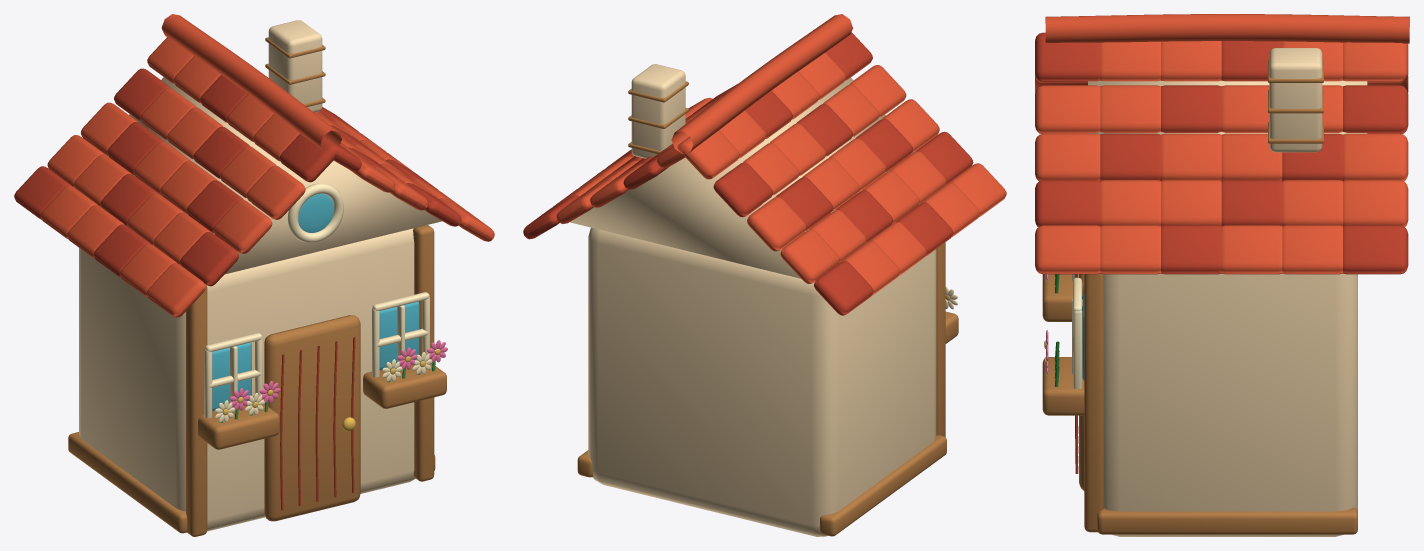
File: cottage-v15.glb
3 renders of one model, left to right at view 1: azimuth 30°, elevation 25°; view 2: azimuth 150°, elevation 25°; view 3: azimuth 270°, elevation 25°, orthographic. The views are drawn at different scales.
Visible parts, largest first — view 1: Cottage_Warm plaster, Cottage_RoofClay, Cottage_Honey timber, Cottage_RoofShade, Cottage_Cream trim, Cottage_Sky blue glass, Cottage_Pink blossoms; view 2: Cottage_Warm plaster, Cottage_RoofClay, Cottage_RoofShade, Cottage_Honey timber; view 3: Cottage_Warm plaster, Cottage_RoofClay, Cottage_RoofShade, Cottage_Honey timber, Cottage_Cream trim.
Part boxes in pixels (bbox=[...]): Cottage_Warm plaster: bbox=[79, 20, 441, 532]; Cottage_RoofClay: bbox=[40, 14, 494, 317]; Cottage_Honey timber: bbox=[68, 37, 446, 536]; Cottage_RoofShade: bbox=[14, 68, 461, 510]; Cottage_Cream trim: bbox=[204, 183, 432, 422]; Cottage_Sky blue glass: bbox=[212, 193, 419, 411]; Cottage_Pink blossoms: bbox=[230, 340, 447, 410]; Cottage_Warm plaster: bbox=[570, 64, 936, 536]; Cottage_RoofClay: bbox=[553, 14, 1006, 295]; Cottage_RoofShade: bbox=[523, 32, 973, 315]; Cottage_Honey timber: bbox=[577, 81, 958, 536]; Cottage_Warm plaster: bbox=[1088, 48, 1367, 536]; Cottage_RoofClay: bbox=[1035, 14, 1409, 274]; Cottage_RoofShade: bbox=[1035, 32, 1408, 473]; Cottage_Honey timber: bbox=[1042, 59, 1357, 534]; Cottage_Cream trim: bbox=[1046, 274, 1082, 388].
Bounding box in the file's own units: 2.82 × 3.36 × 2.47.
